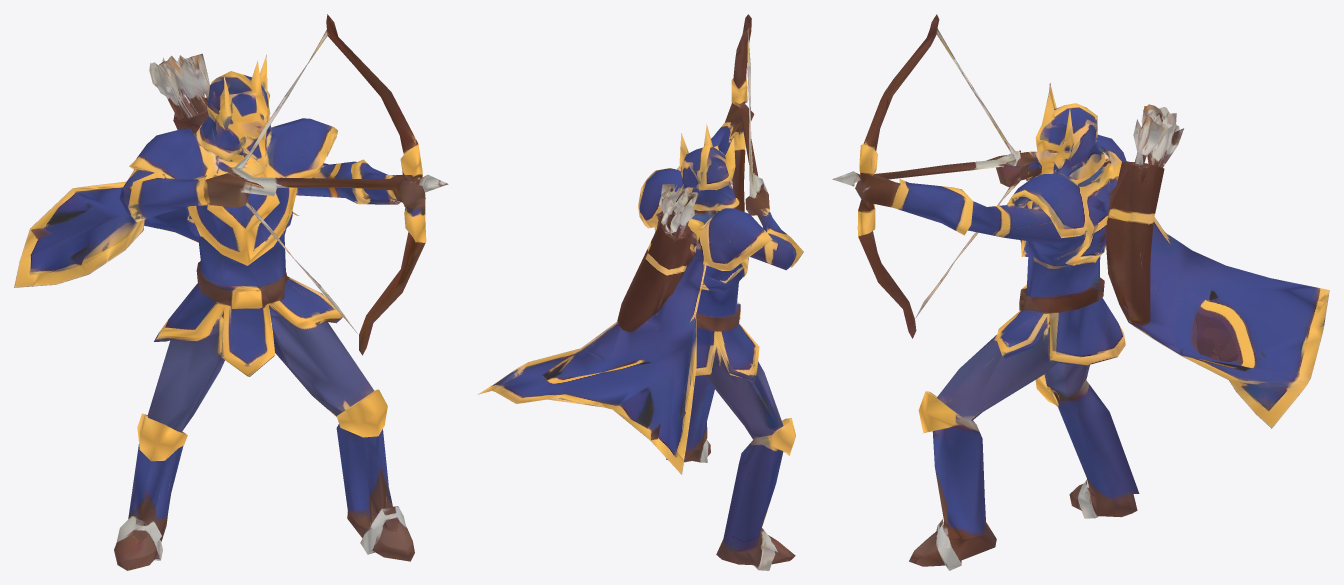
File: rider-a3.glb
The picture shows the model from 3 angles, left to right: view 1: azimuth 30°, elevation 25°; view 2: azimuth 150°, elevation 25°; view 3: azimuth 270°, elevation 25°; orthographic projection. The views are drawn at different scales.
Parts seen in each view (by area): view 1: mesh_node; view 2: mesh_node; view 3: mesh_node.
Boxes of the visible parts, bbox=[...] form: mesh_node: bbox=[14, 14, 448, 570]; mesh_node: bbox=[477, 14, 803, 570]; mesh_node: bbox=[832, 14, 1329, 570].
Size of the model in its own units: 0.5628 by 1.1 by 0.9109.
Materials: 1 (1 with a texture image).
